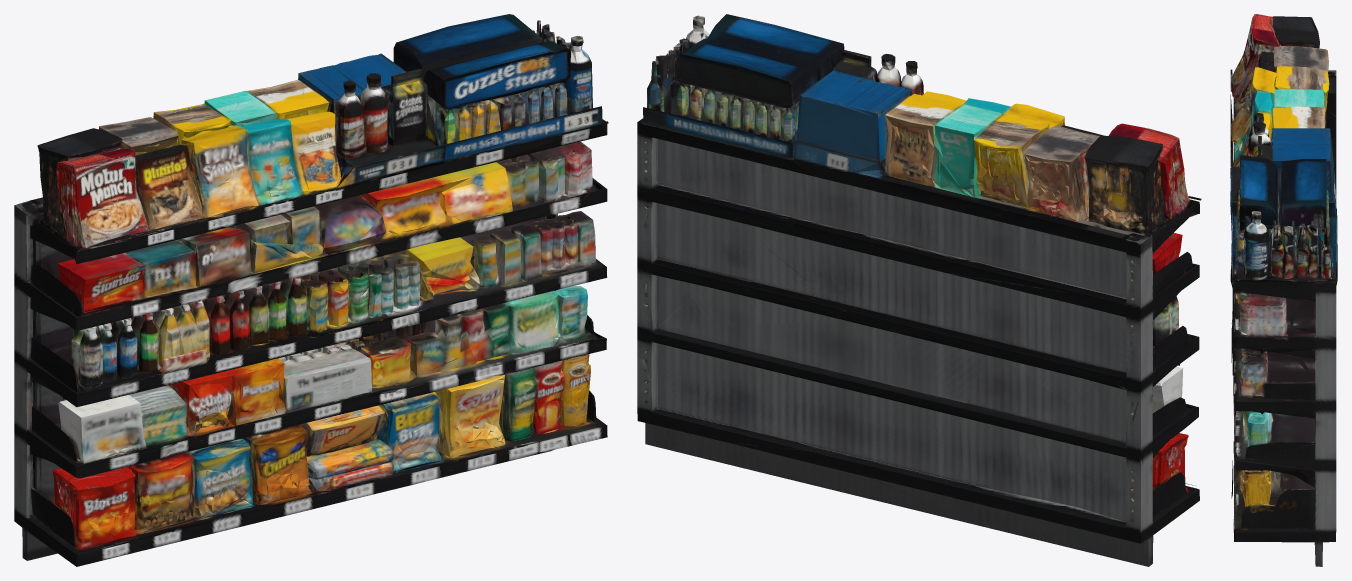
Rendered from snack_aisle.glb.
3 renders of one model, left to right at view 1: azimuth 30°, elevation 25°; view 2: azimuth 150°, elevation 25°; view 3: azimuth 270°, elevation 25°, orthographic. The views are drawn at different scales.
Parts seen in each view (by area): view 1: output_unwrapped; view 2: output_unwrapped; view 3: output_unwrapped.
Part boxes in pixels (box(x1,y1,x2,y2)): output_unwrapped: box(14, 14, 608, 566); output_unwrapped: box(637, 14, 1201, 566); output_unwrapped: box(1230, 14, 1337, 566).
Size of the model in its own units: 1.9 by 1.48 by 0.4053.
Materials: 1 (1 with a texture image).
